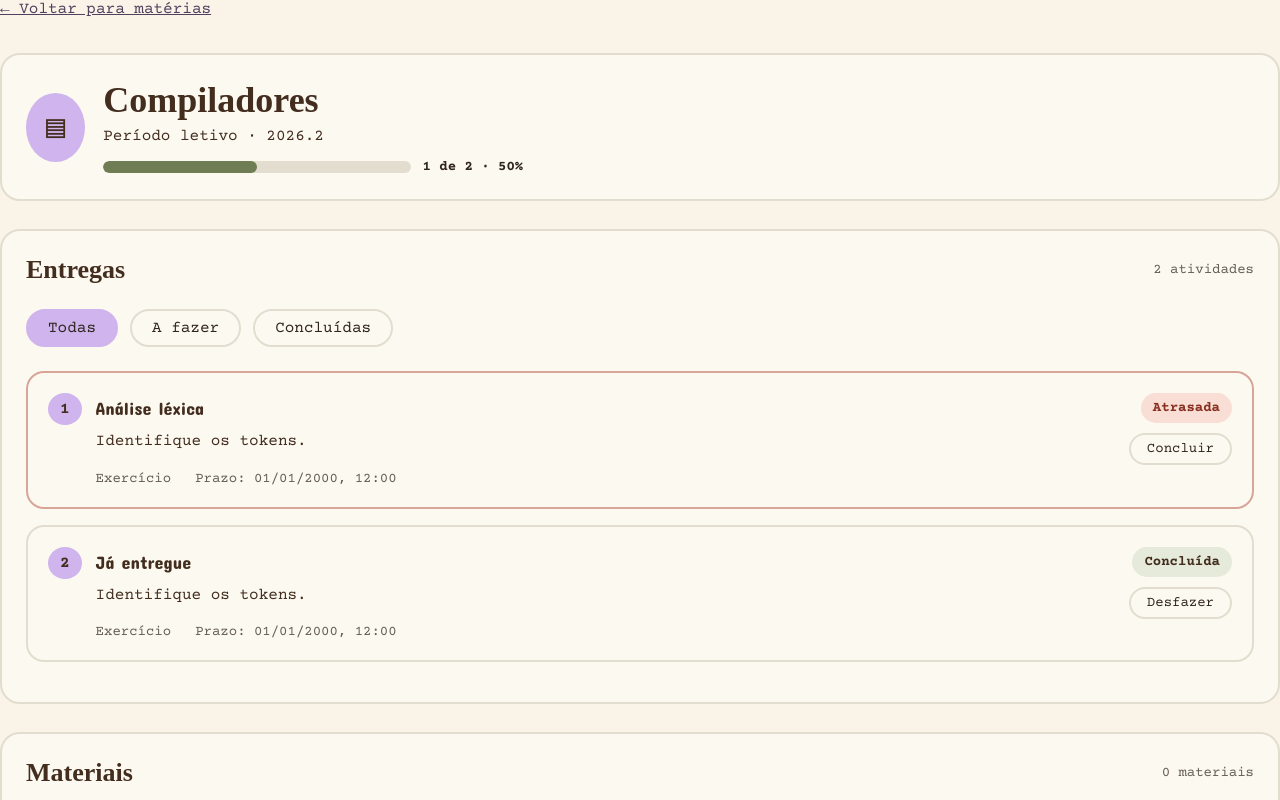
Test case: Página de disciplina com API HTTP › destaca uma entrega vencida e mantém concluídas fora do atraso
This screenshot has width=1280, height=800.
Expected: the text "Atrasada" is shown, [1141,393,1232,423]
Expected: the text "Concluída" is shown, [1132,547,1232,577]
Click the button "Concluídas".
click(323, 328)  # box [253,309,393,347]
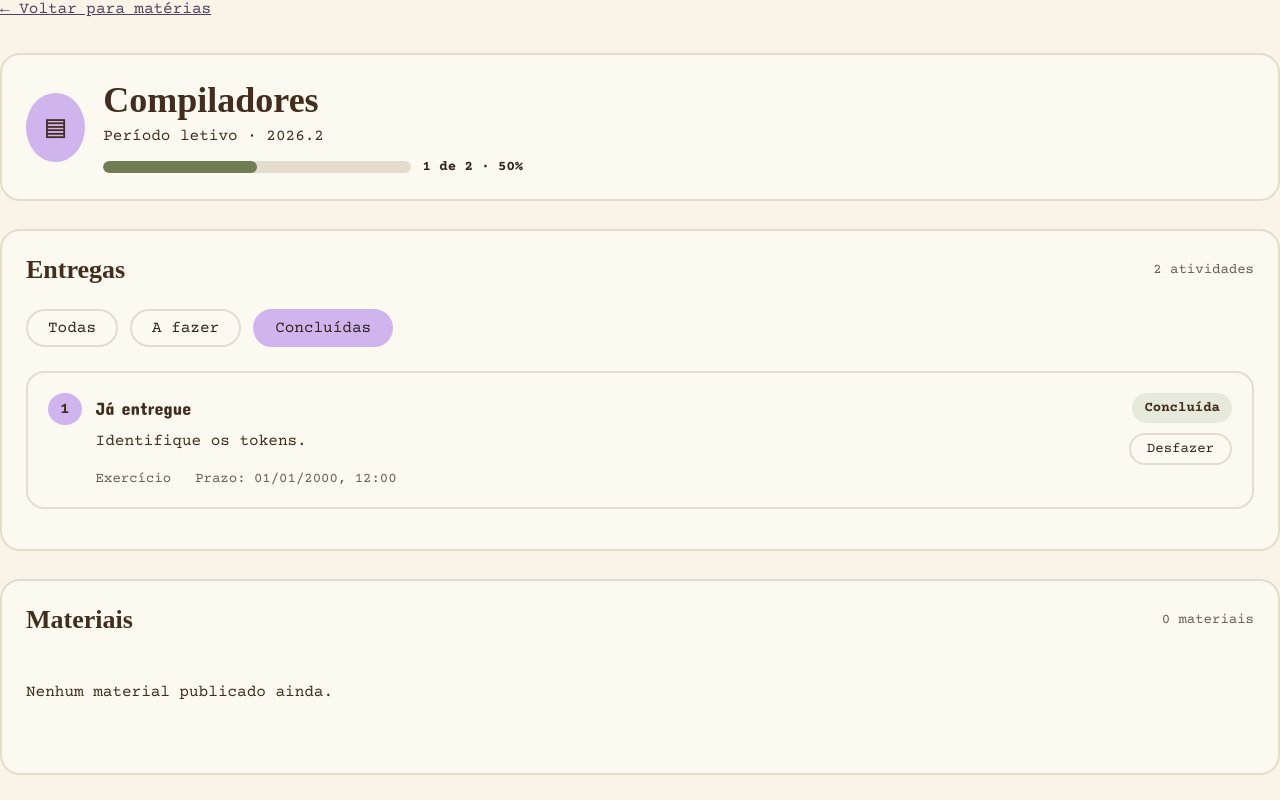
Expected: the heading "Já entregue" is shown, [96,397,191,419]
Expected: the text "Atrasada" is gone
